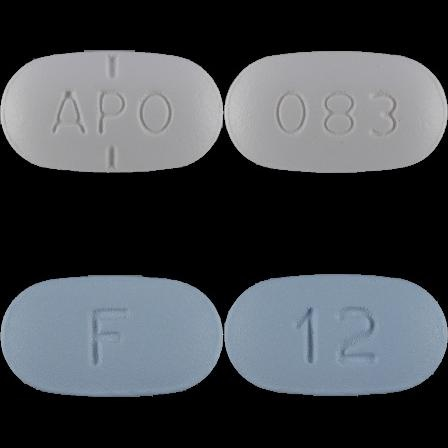53808-0750: (0, 0, 224, 224)
